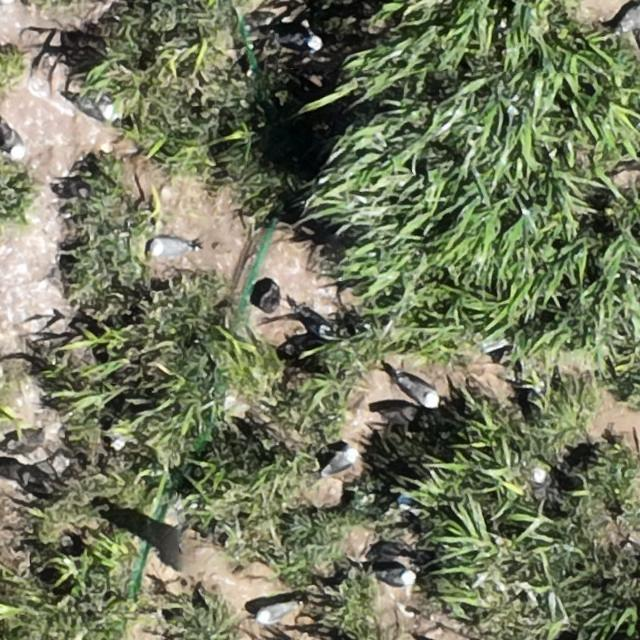umineko: (71, 92, 123, 122), (399, 379, 438, 407), (2, 121, 28, 159), (530, 466, 561, 492), (282, 34, 321, 53), (324, 449, 356, 472), (150, 238, 188, 257), (257, 603, 293, 623), (378, 568, 414, 588)
